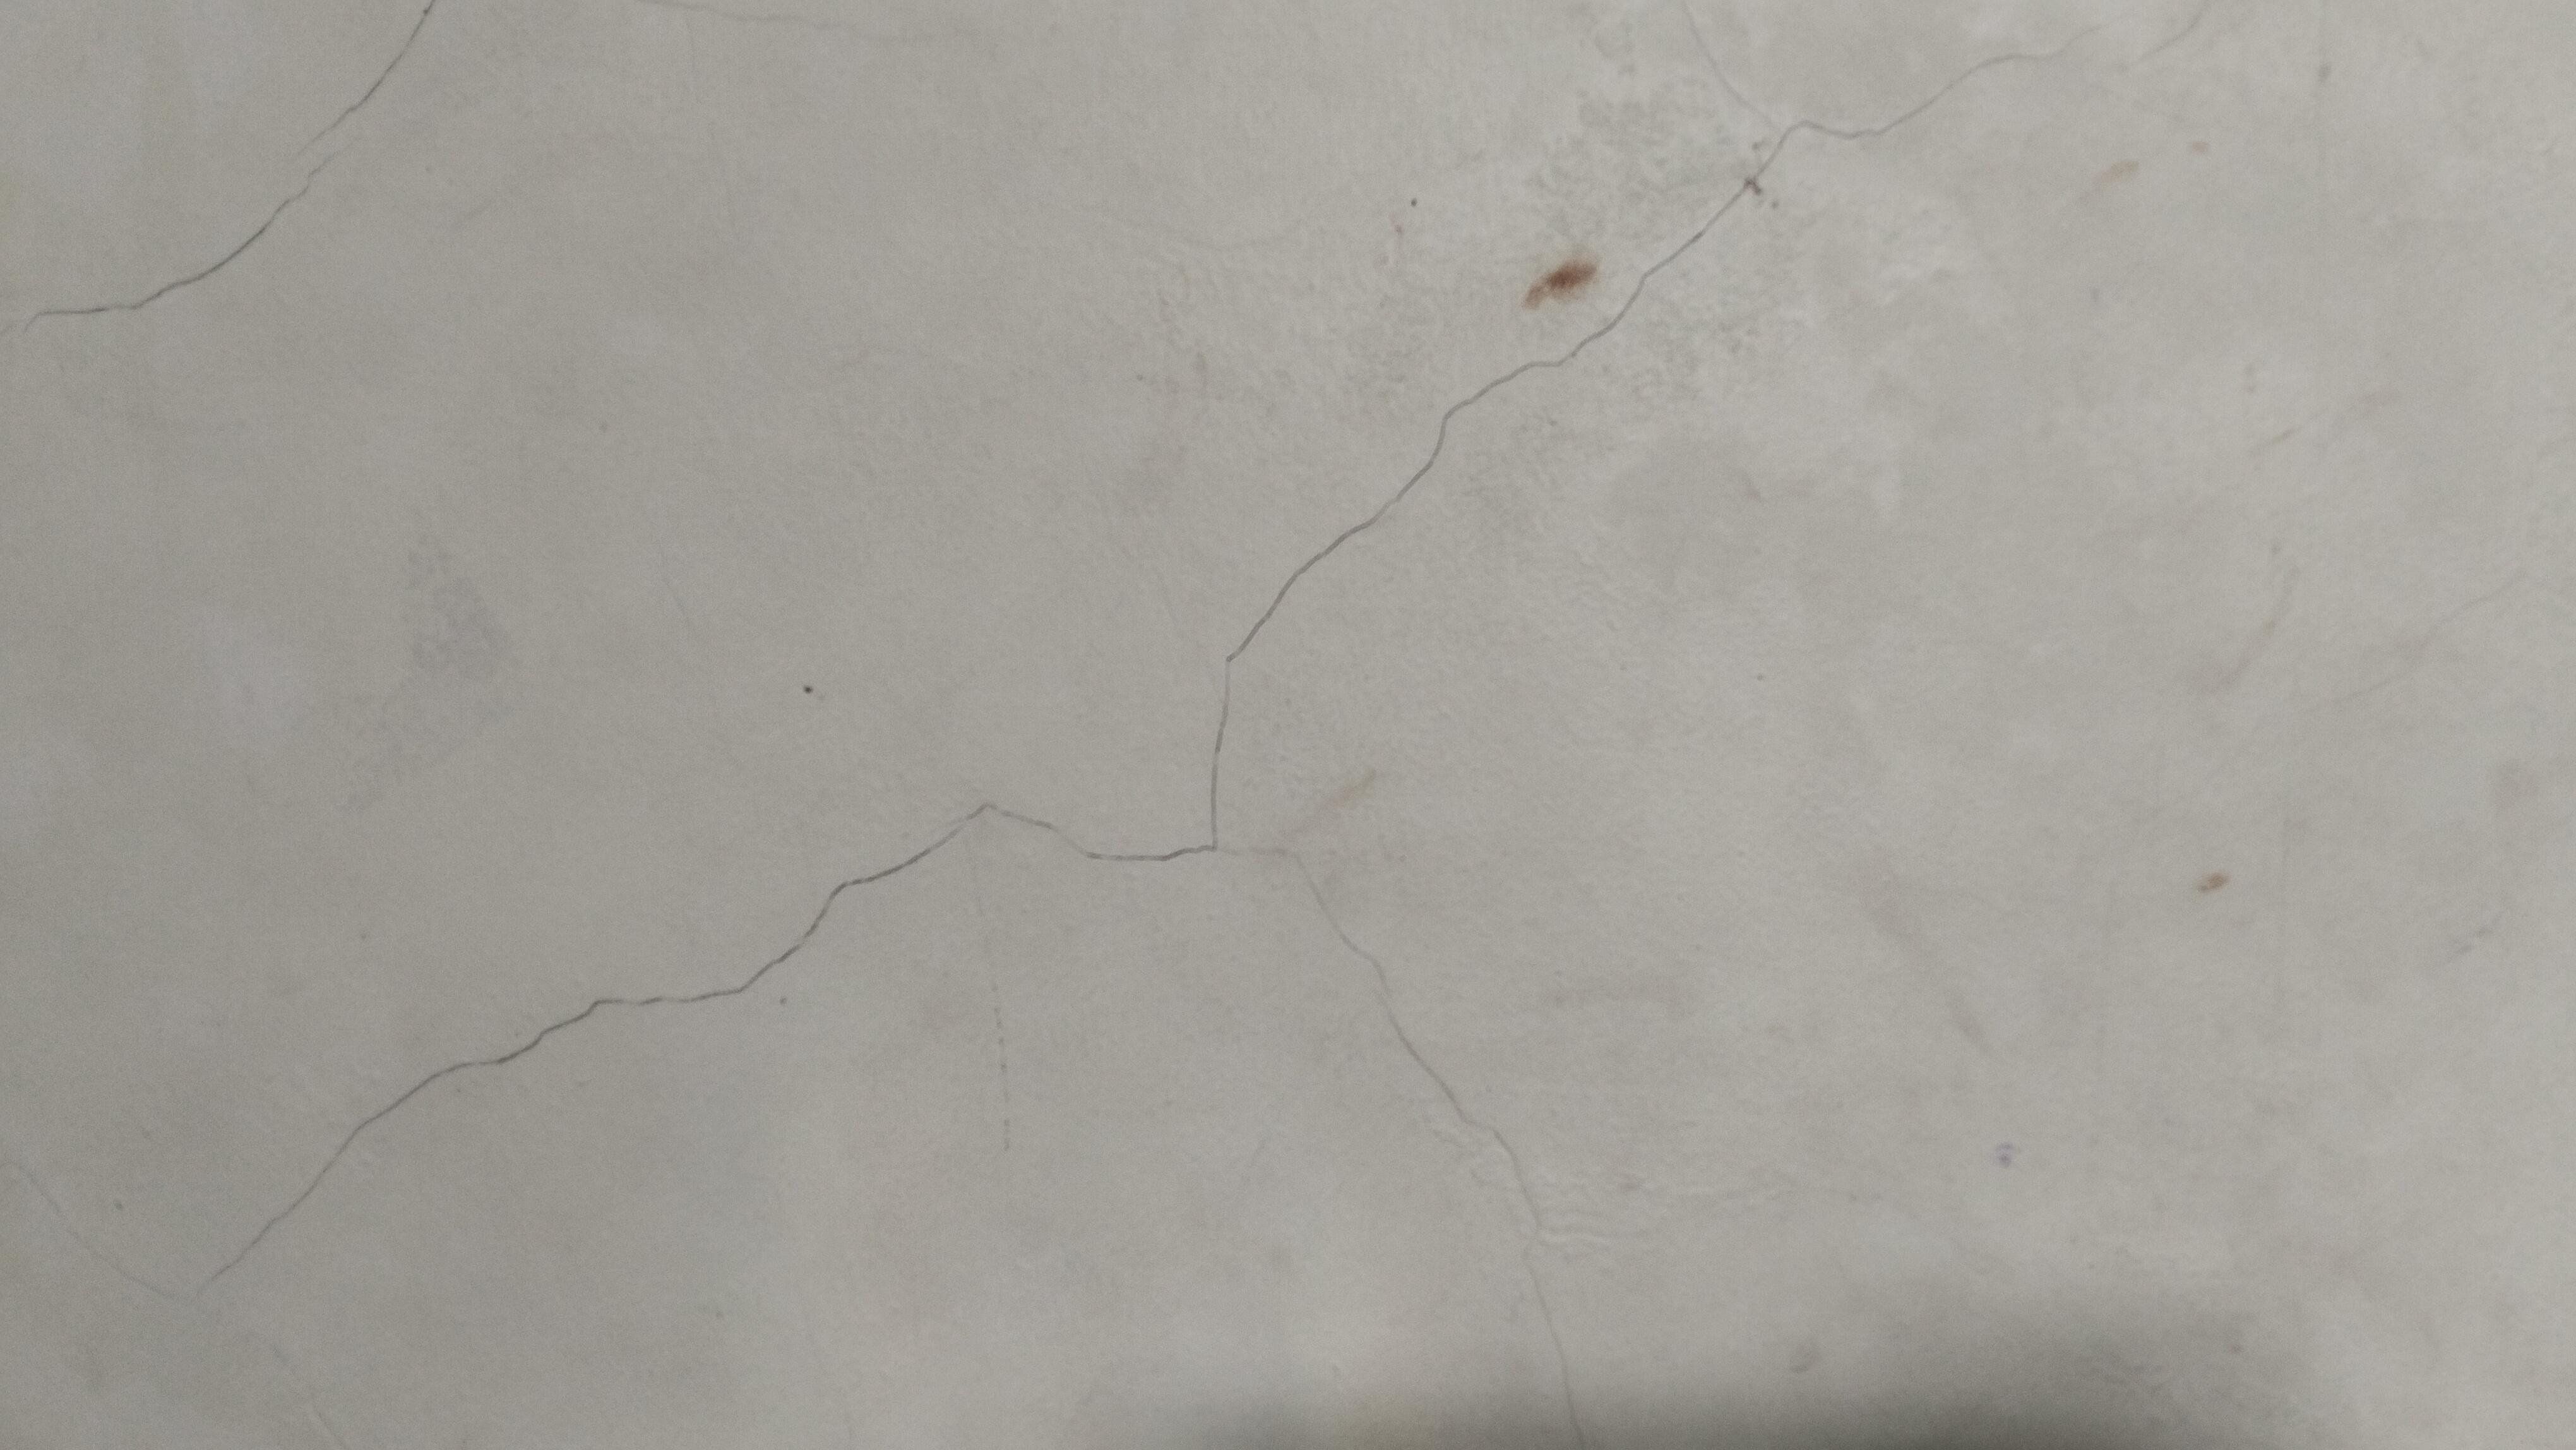Crack: (223, 791, 1235, 1308), (1175, 324, 1746, 823), (1191, 830, 1695, 1262), (0, 0, 476, 354), (1617, 11, 2118, 331)
